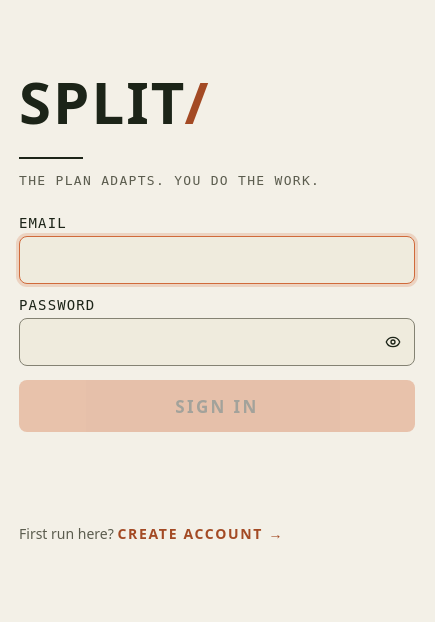
LoginPage › server-side error surfacing › renders ValidationProblemDetails.errors at the field level
Type "runner@example.com" into the field labelled "Email". click: [217, 260]
box: [19,236,415,284]
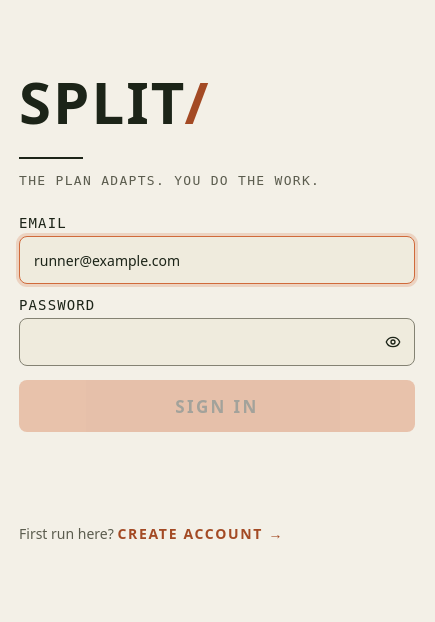
Type "StrongPassw0rd!" into the password field labelled "Password". click: [217, 342]
box: [19,318,415,366]
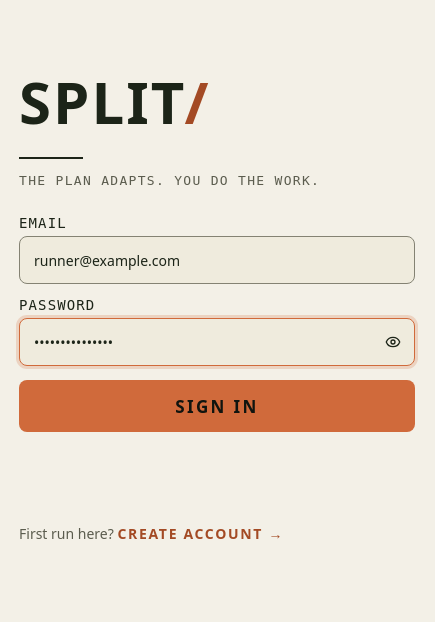
expect the button "Sign in" is enabled: met
Click the button "Sign in". click: [217, 406]
box: [19,380,415,432]
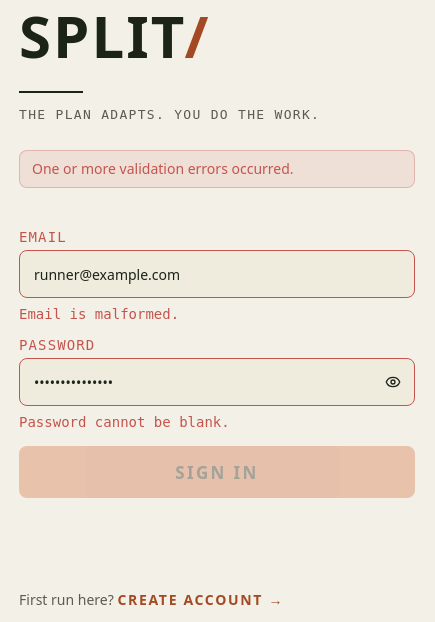
expect the text "Email is malformed." is shown: met, box [19,306,179,322]
expect the text "Password cannot be blank." is shown: met, box [19,414,230,430]
